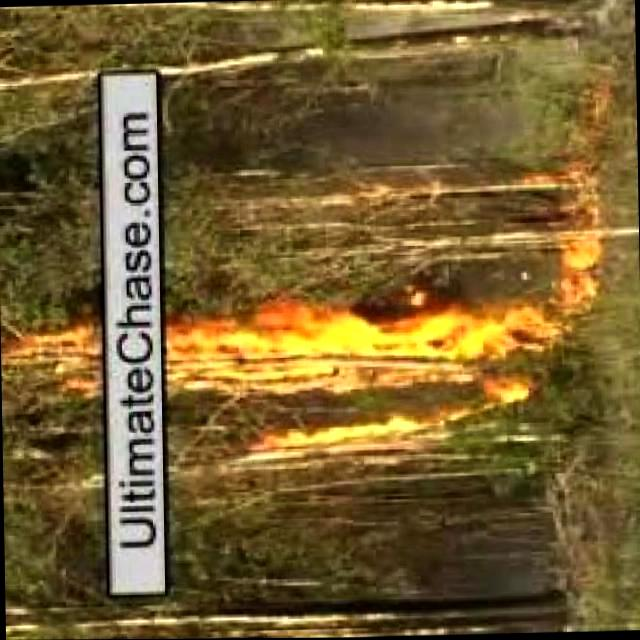fire: (172, 302, 540, 394), (250, 406, 472, 470), (570, 211, 600, 339), (18, 329, 98, 376)
